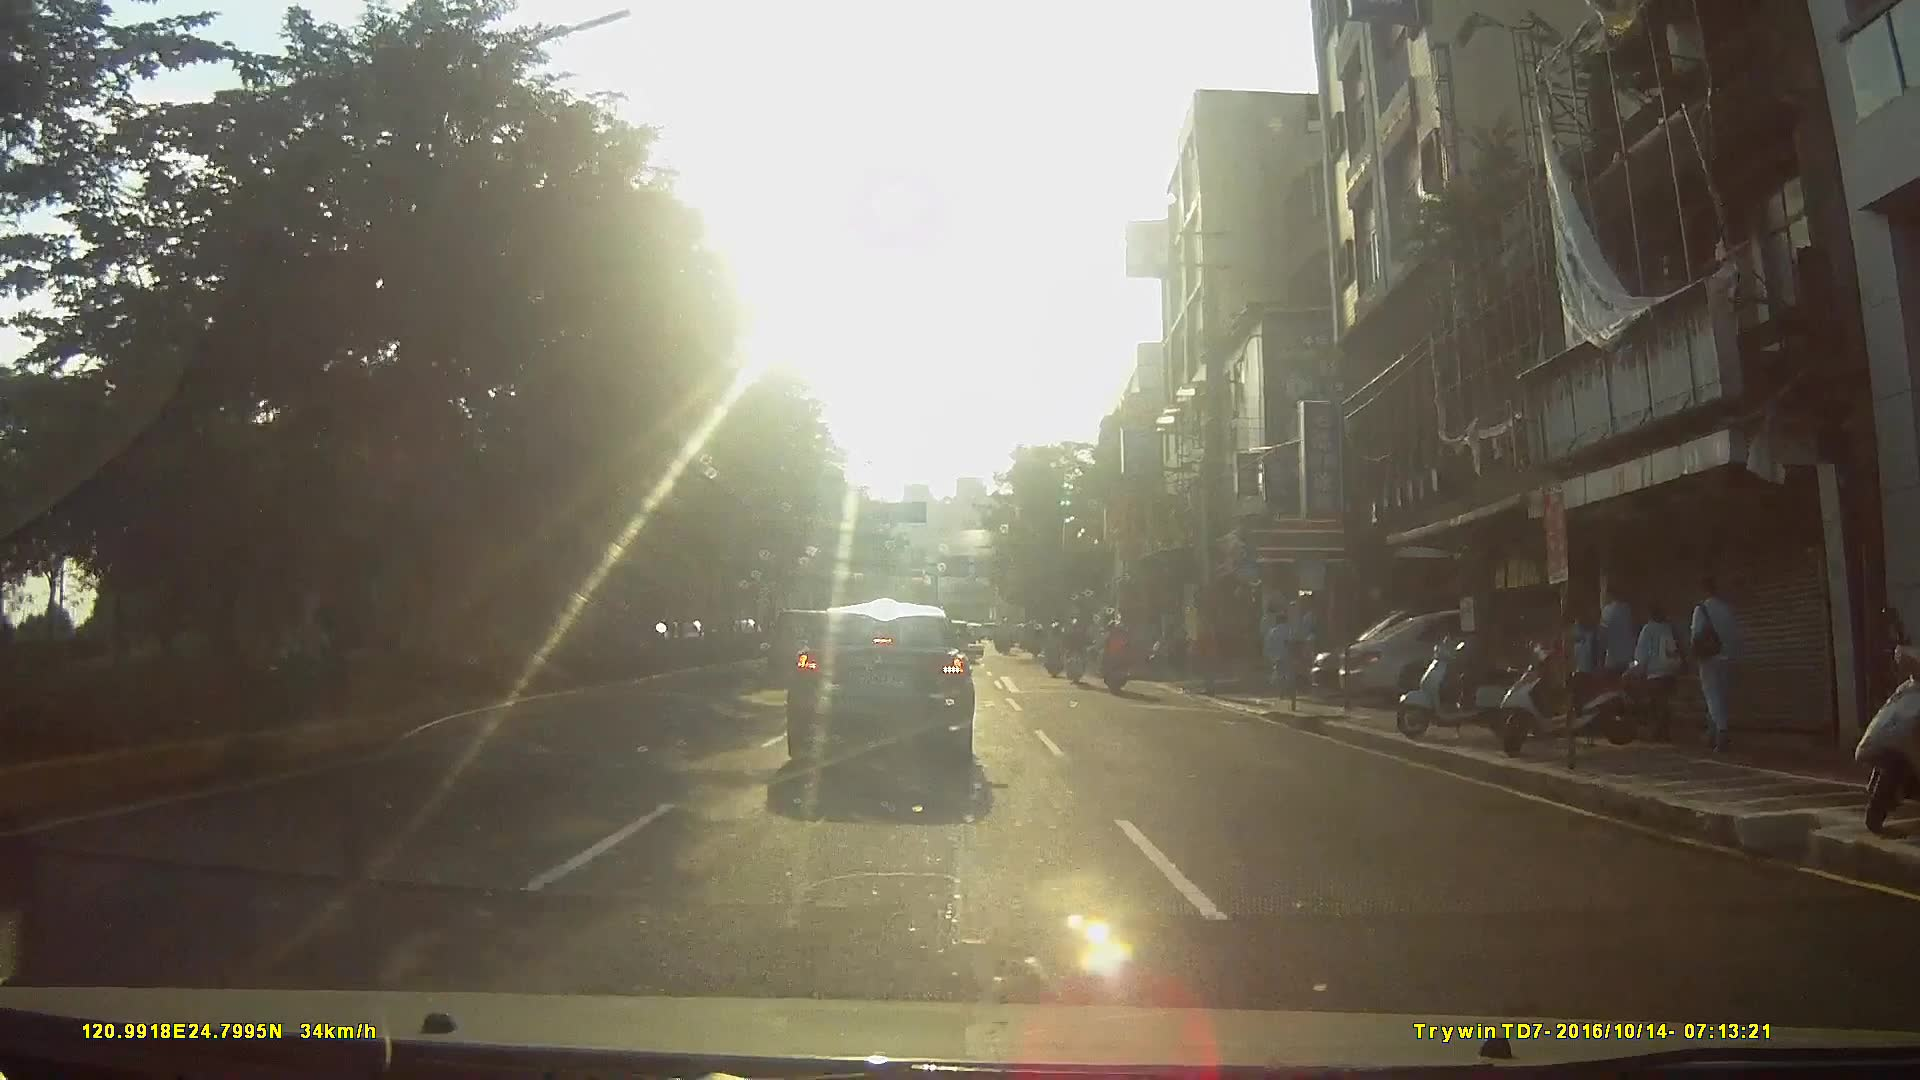pedestrian: (1685, 573, 1737, 743), (1595, 574, 1643, 716), (1633, 602, 1684, 729), (1263, 606, 1298, 703)
rider: (1101, 615, 1138, 695), (1062, 616, 1090, 688), (1041, 620, 1068, 679)
vehicle: (773, 591, 995, 785), (1337, 603, 1626, 711)
